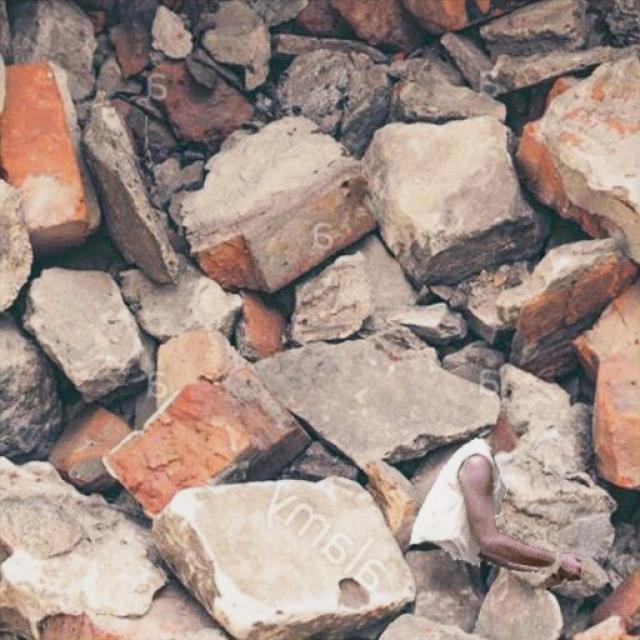Person in Rubble: (410, 438, 580, 588)
